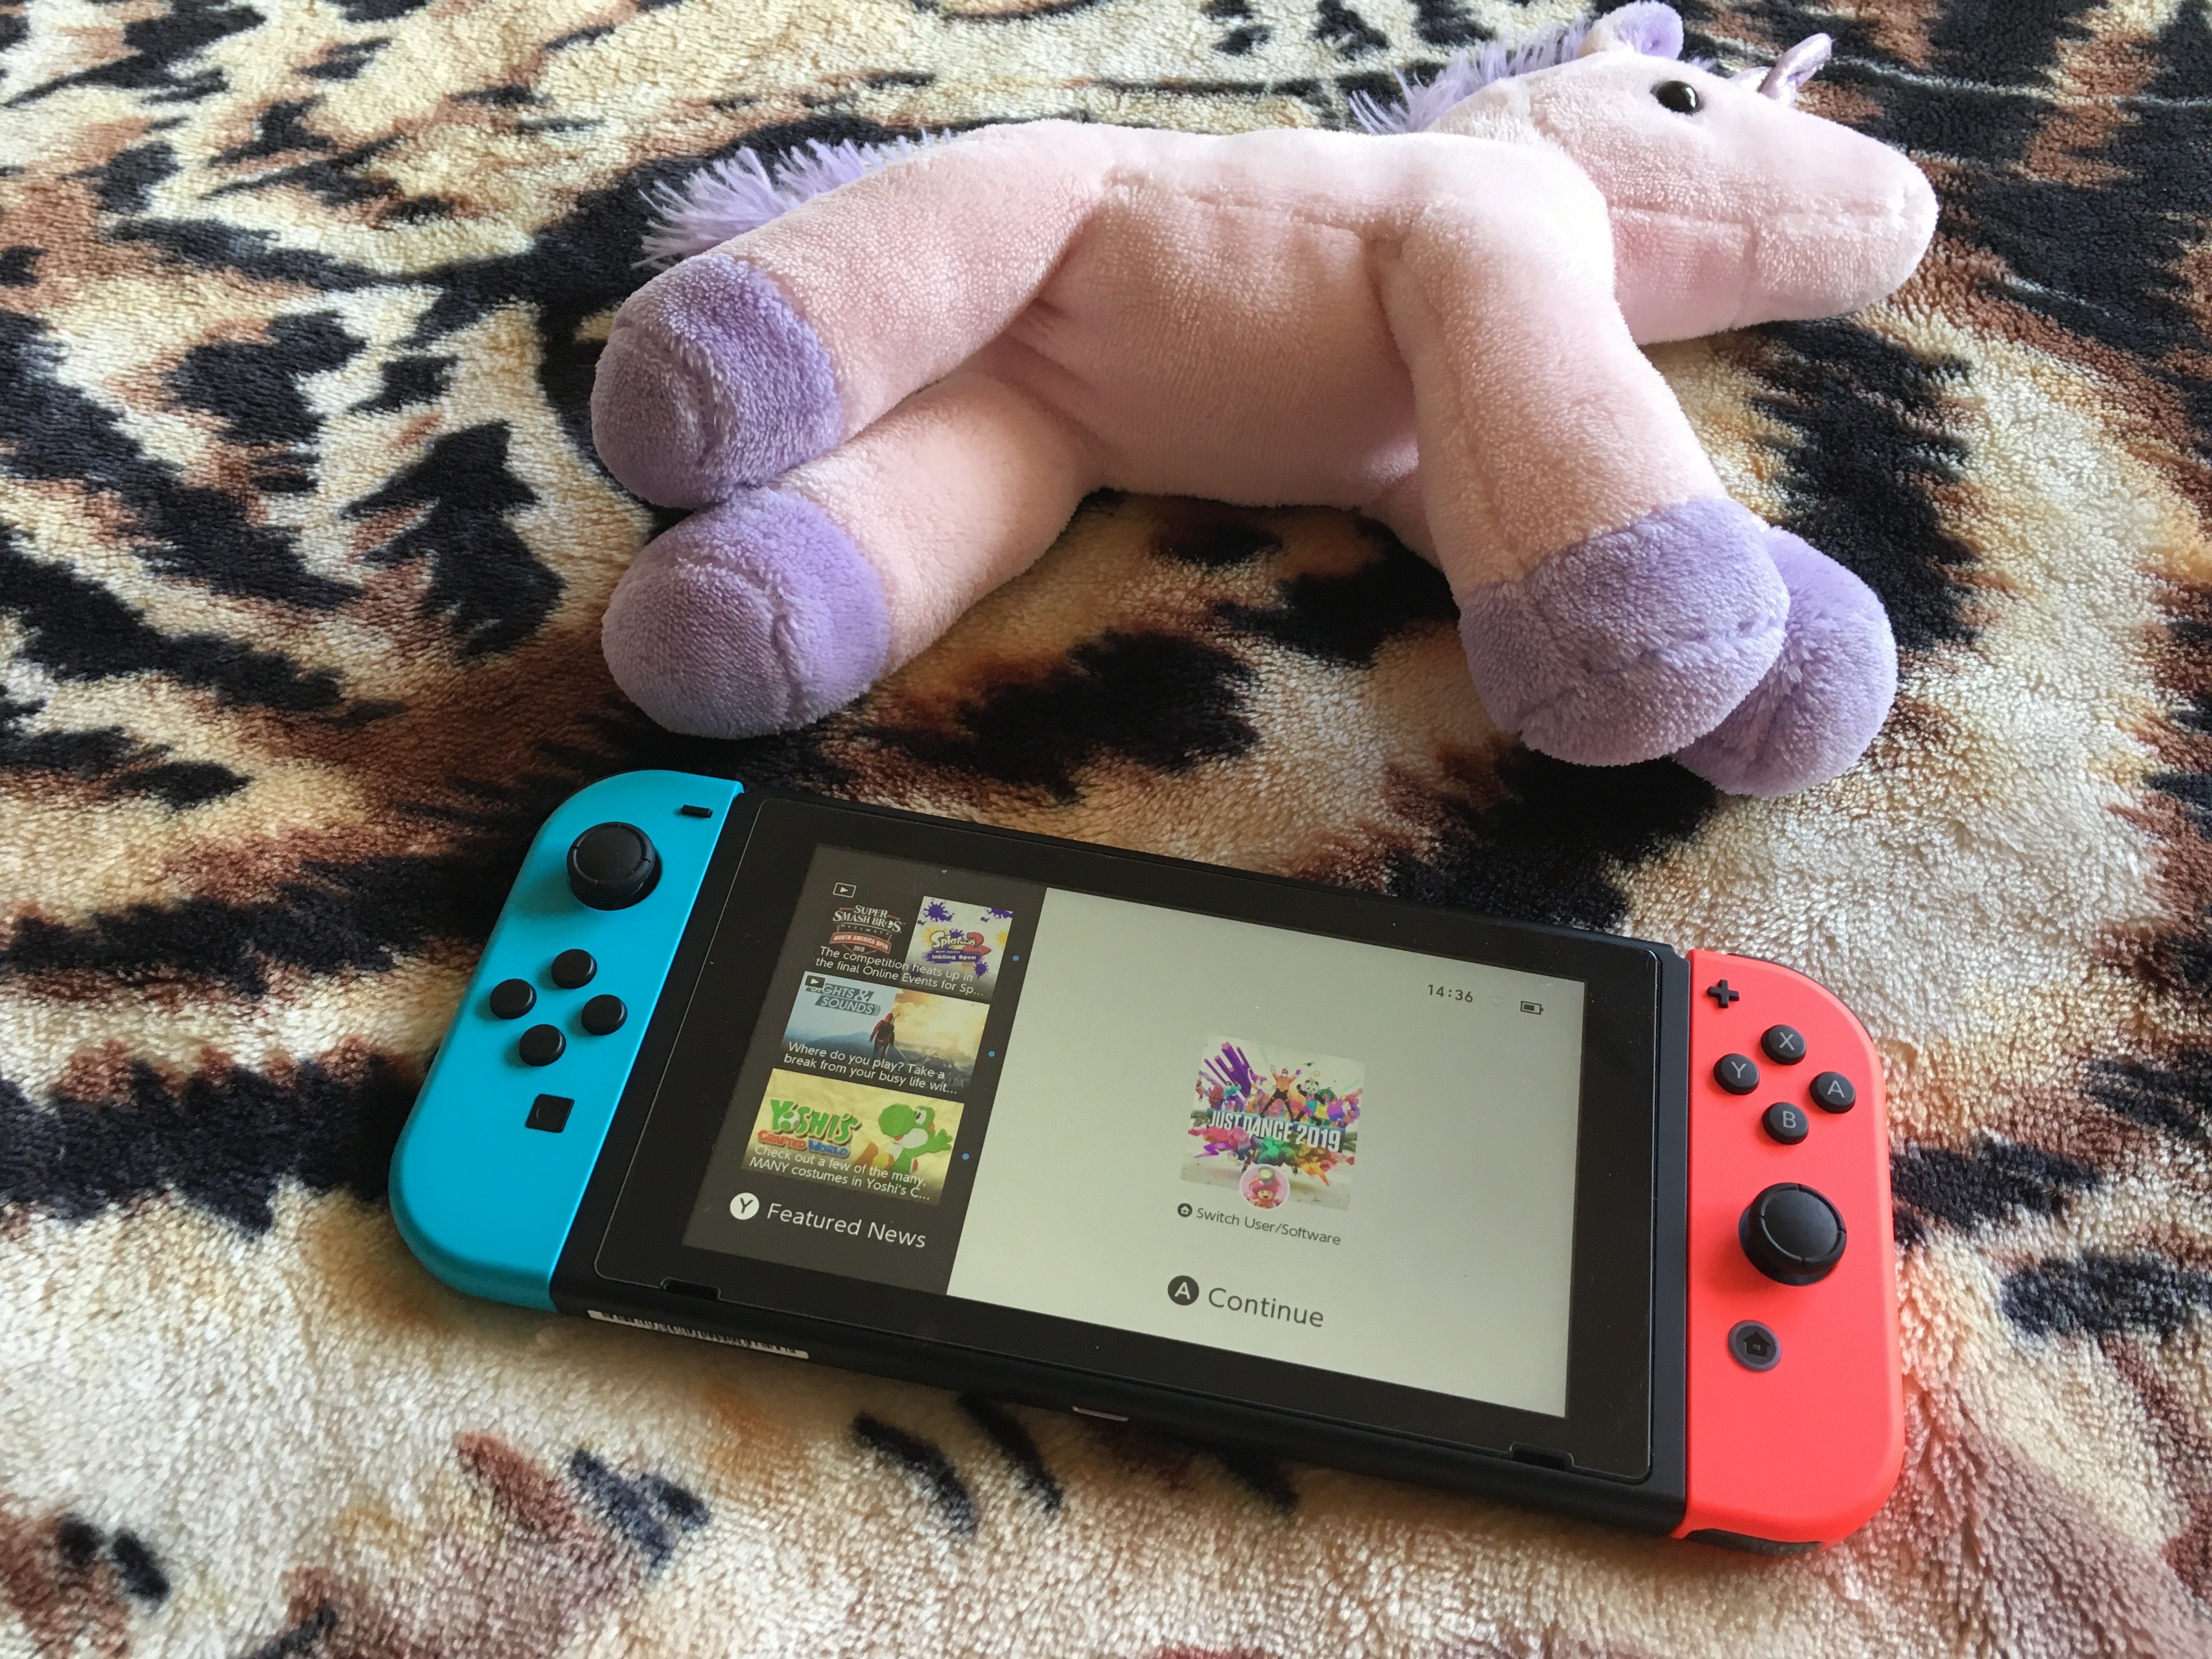NintendoSwitch: (368, 762, 1944, 1568)
